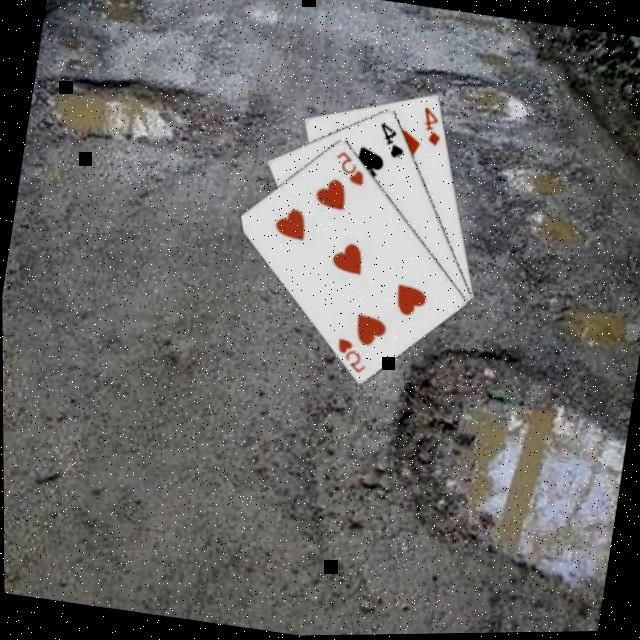4D: (418, 103, 450, 151)
4S: (374, 120, 412, 162)
5H: (330, 146, 372, 190), (332, 334, 374, 378)
